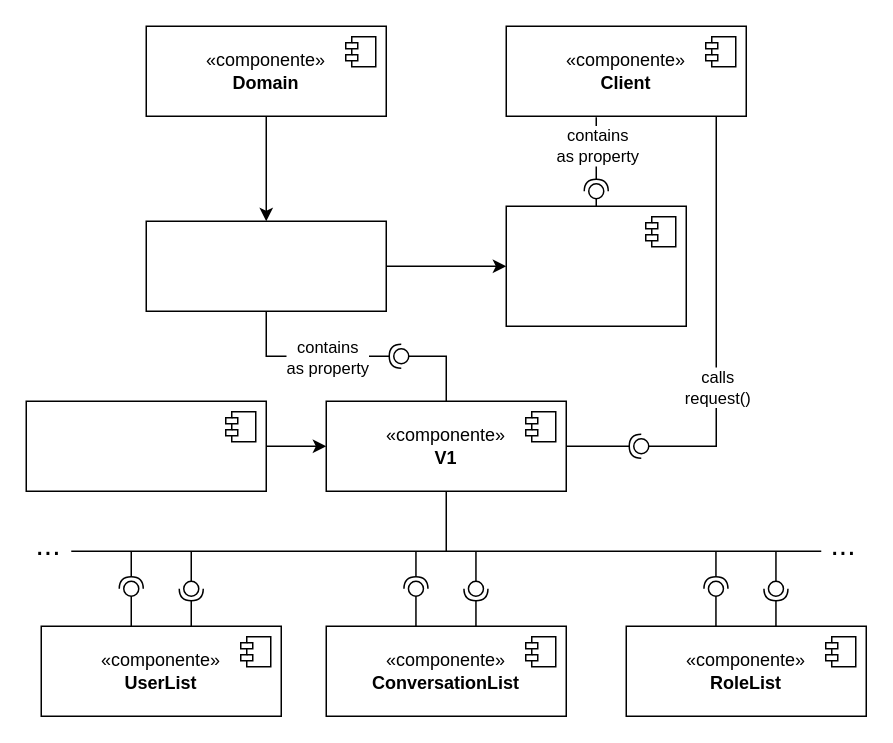
This 893x743 diagram has some shape labels left out. The centre of each missing label's shape, as x and y in pixels:
"«componente» Conversations" goes at point (595, 265).
"«componente» ConversationsBase" goes at point (265, 265).
"«componente» Versions" goes at point (145, 445).
